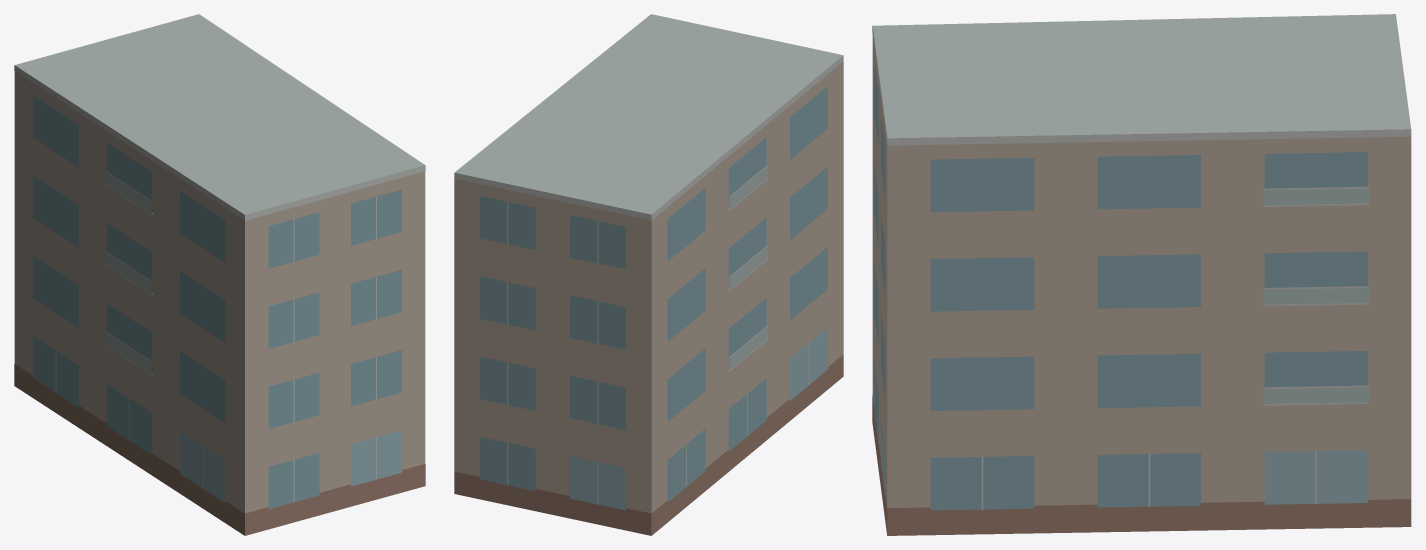
File: survey-upis-32699812.glb
The picture shows the model from 3 angles, left to right: view 1: azimuth 30°, elevation 25°; view 2: azimuth 150°, elevation 25°; view 3: azimuth 270°, elevation 25°; orthographic projection. The views are drawn at different scales.
Parts seen in each view (by area): view 1: survey-upis-32699812.tmp; view 2: survey-upis-32699812.tmp; view 3: survey-upis-32699812.tmp.
Boxes of the visible parts, <box> form: survey-upis-32699812.tmp: <box>14,14,425,535</box>; survey-upis-32699812.tmp: <box>454,14,843,535</box>; survey-upis-32699812.tmp: <box>872,14,1411,535</box>.
Bounding box in the file's own units: 8.86 × 13.2 × 16.22.
